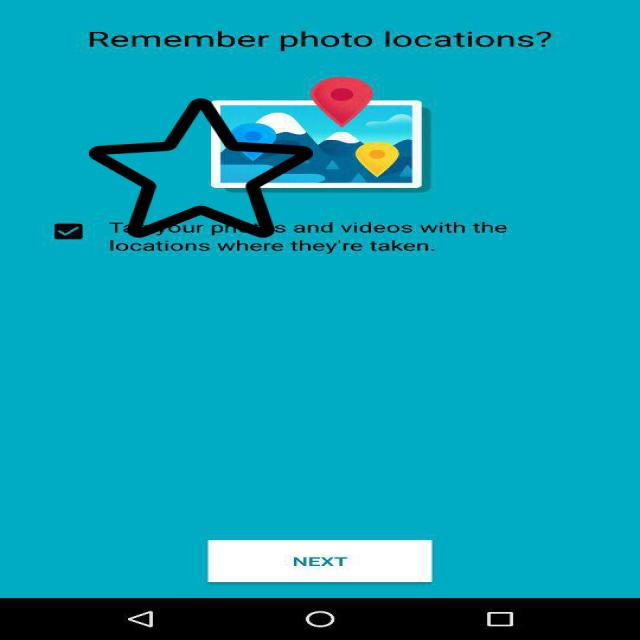forced continuity: (89, 95, 313, 241)
